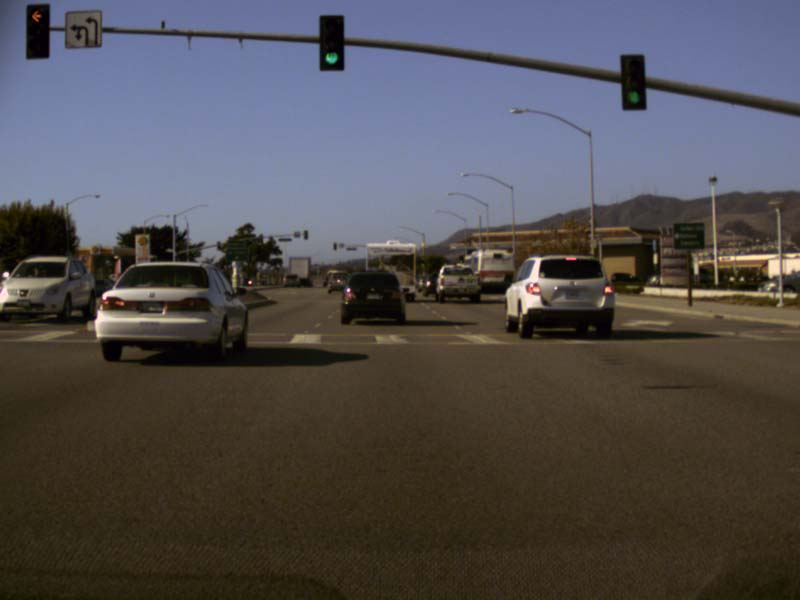Green: (620, 53, 645, 110), (319, 15, 344, 71)
Red: (26, 4, 50, 59)
